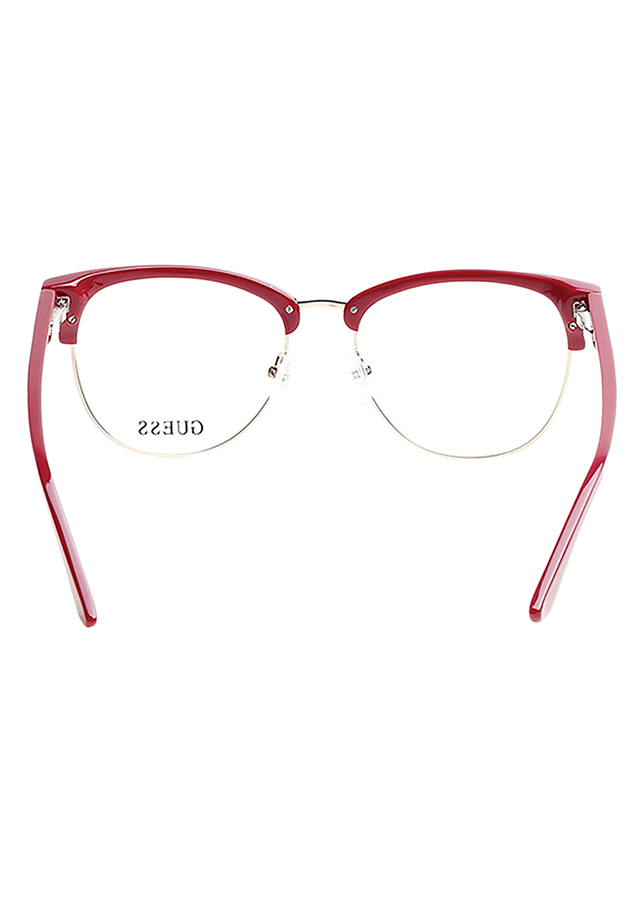Guess: (127, 411, 213, 446)
